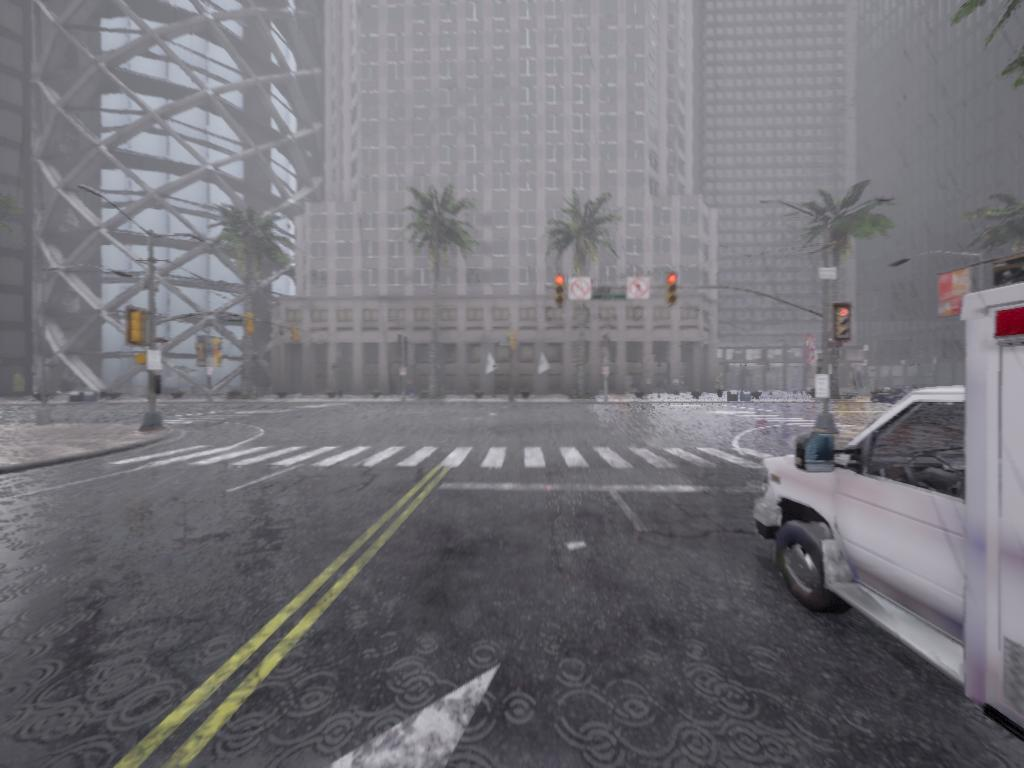traffic_light: (833, 306, 854, 345), (653, 273, 679, 303), (127, 309, 147, 345), (666, 274, 679, 305), (554, 276, 566, 307), (246, 315, 258, 341), (137, 354, 151, 369)
